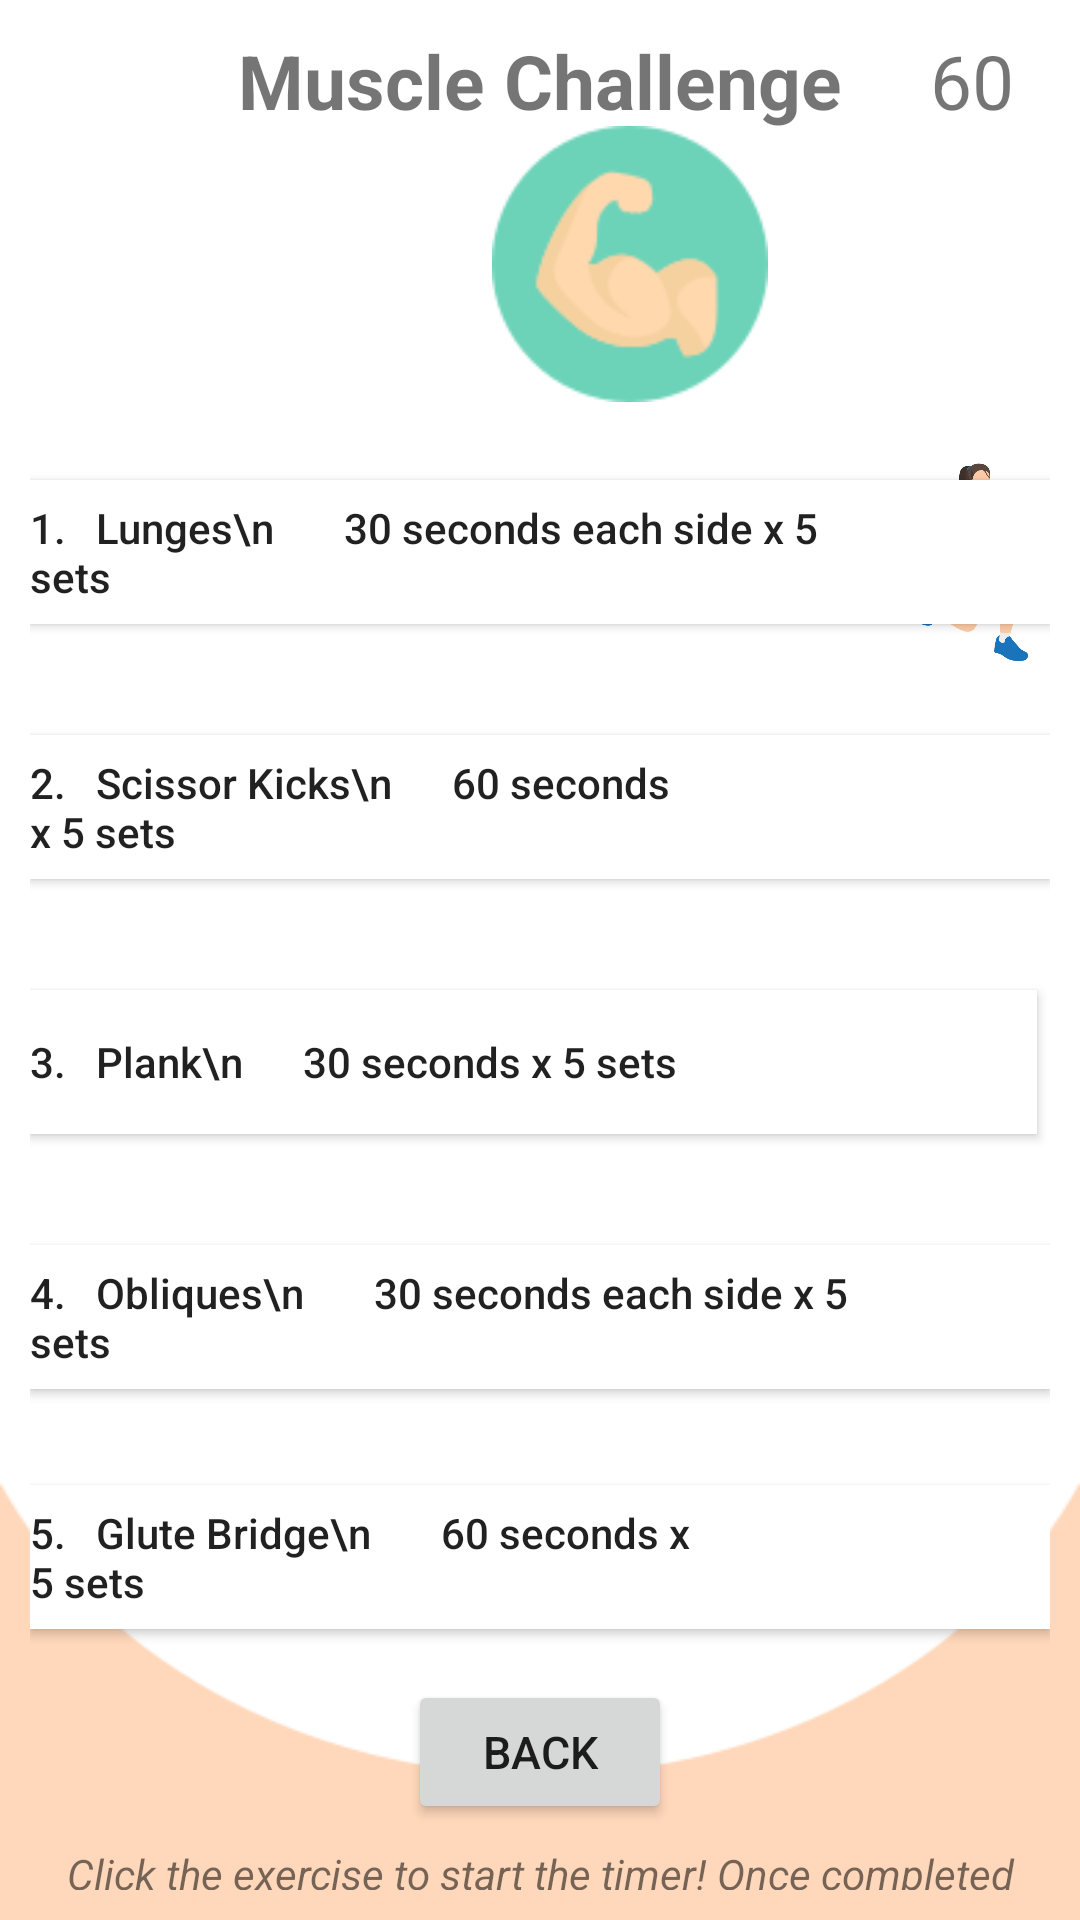

Locate icon controls on the screen. Image size 1080px x 1920px, boxes as (x1, y1, x2, y2).
buildmuscleheader: (492, 126, 768, 402)
